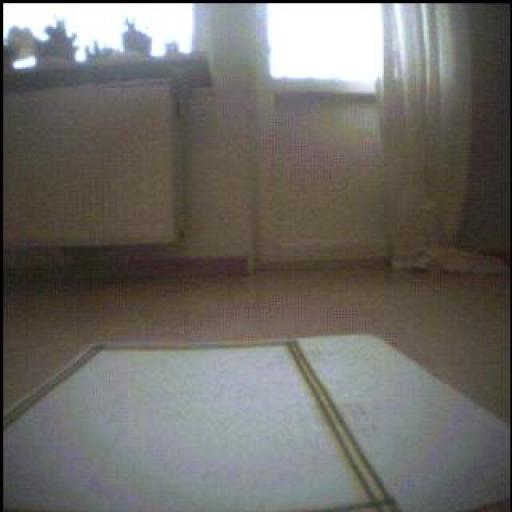Pad: (5, 337, 512, 512)
